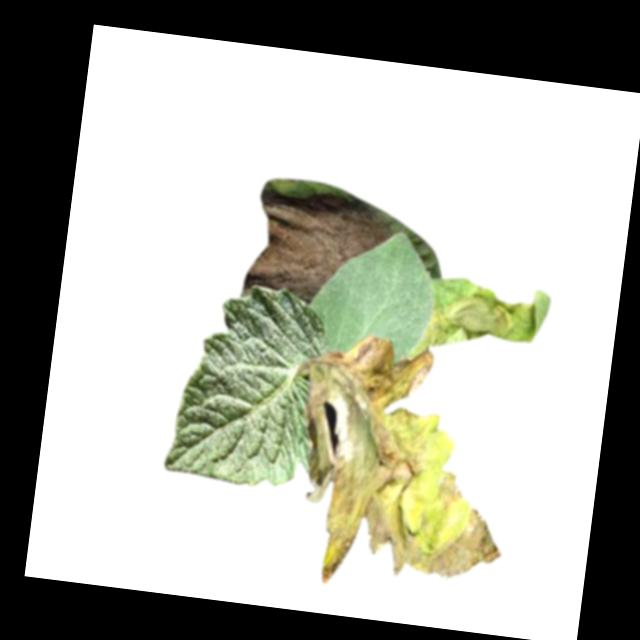Late_blight: (281, 328, 525, 604), (238, 183, 399, 314), (409, 271, 553, 375)
healthy: (161, 279, 332, 493), (303, 223, 439, 360)
